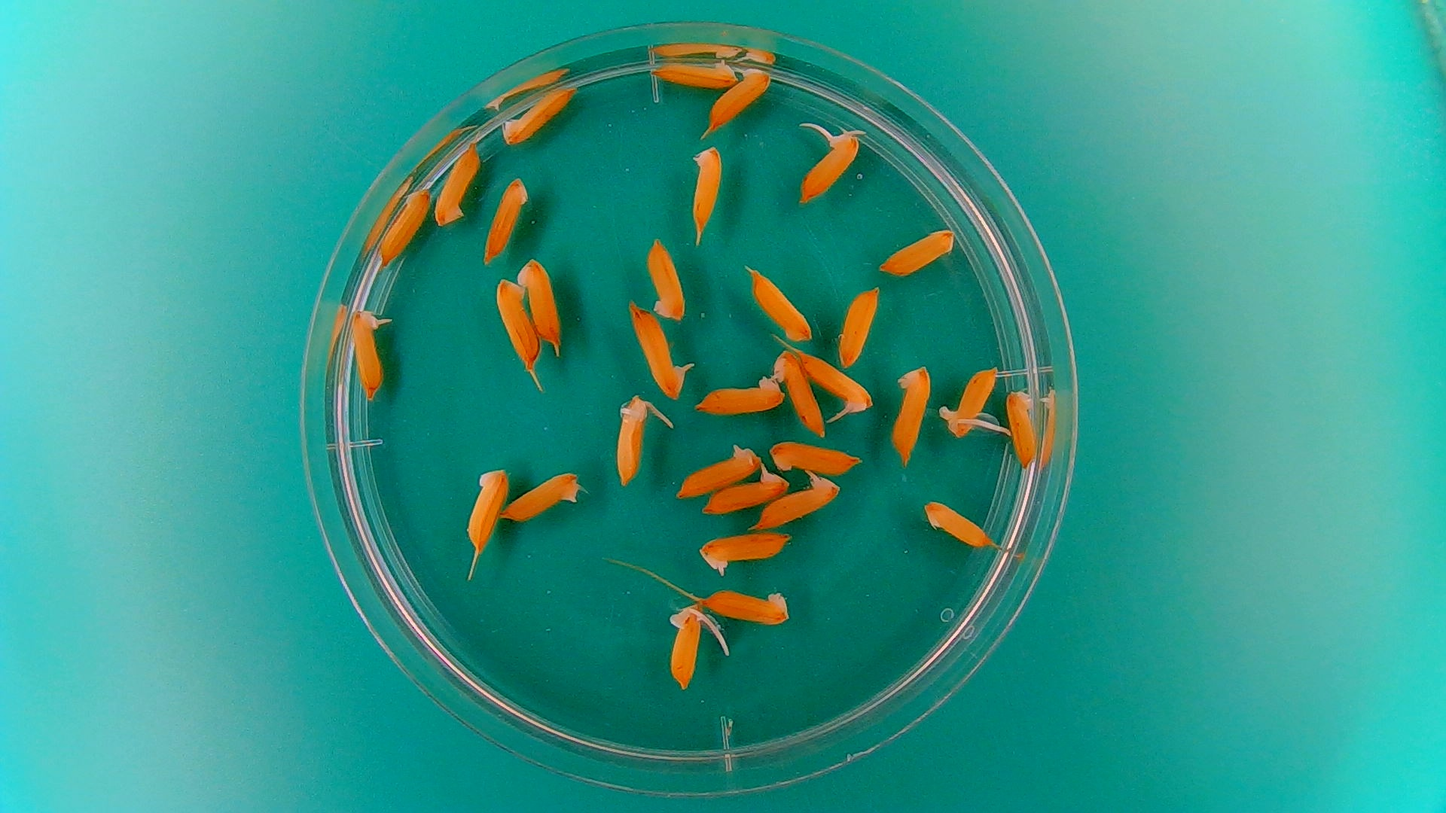no: (745, 263, 816, 342), (770, 346, 828, 437), (500, 82, 578, 147), (493, 275, 544, 371), (515, 255, 565, 352), (377, 186, 433, 268), (482, 172, 532, 263), (889, 364, 935, 461), (920, 496, 999, 551), (433, 142, 482, 230), (877, 224, 958, 277), (501, 470, 580, 523), (694, 372, 787, 417), (835, 283, 883, 369), (708, 64, 773, 127), (698, 584, 792, 627), (643, 234, 688, 321), (467, 467, 509, 556), (688, 139, 725, 239), (1001, 382, 1042, 470), (647, 52, 740, 90), (770, 439, 862, 476)
yes: (631, 305, 685, 397), (695, 528, 792, 577), (752, 477, 842, 529), (798, 352, 873, 413), (800, 128, 862, 201), (679, 442, 758, 499), (942, 365, 999, 437), (703, 471, 788, 517), (347, 309, 385, 401), (615, 394, 651, 486), (668, 599, 703, 687)
